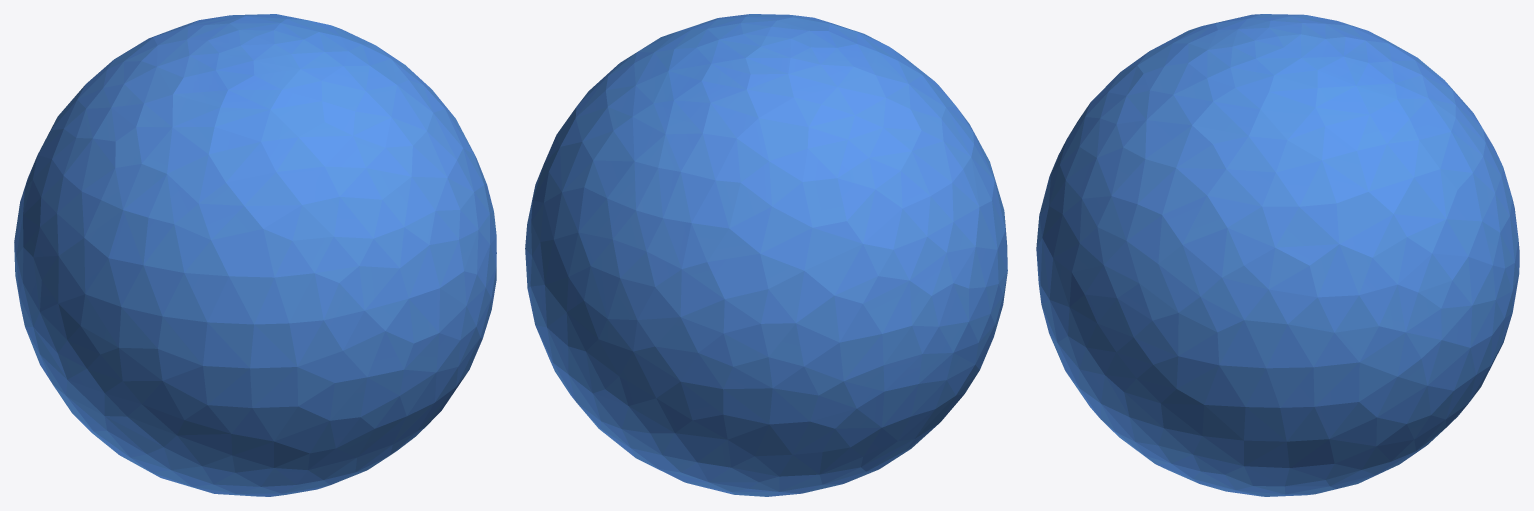
3 views of the same model, side by side, from view 1: azimuth 30°, elevation 25°; view 2: azimuth 150°, elevation 25°; view 3: azimuth 270°, elevation 25° (orthographic).
Parts seen in each view (by area): view 1: Sphere; view 2: Sphere; view 3: Sphere.
Boxes of the visible parts, x1,y1,x2,y2 form: Sphere: [14, 14, 496, 496]; Sphere: [525, 14, 1007, 496]; Sphere: [1036, 14, 1519, 496].
Bounding box in the file's own units: 2 × 2 × 2.
